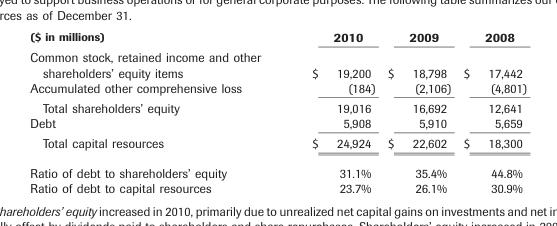table: (29, 29, 526, 195)
table column: (29, 29, 285, 195), (285, 29, 380, 195), (380, 29, 456, 195), (456, 29, 526, 195)
table column header: (29, 29, 526, 47)
table row: (29, 47, 526, 79), (29, 132, 526, 157), (29, 157, 526, 180), (29, 29, 526, 47), (29, 79, 526, 97), (29, 97, 526, 115), (29, 115, 526, 132), (29, 180, 526, 195)
